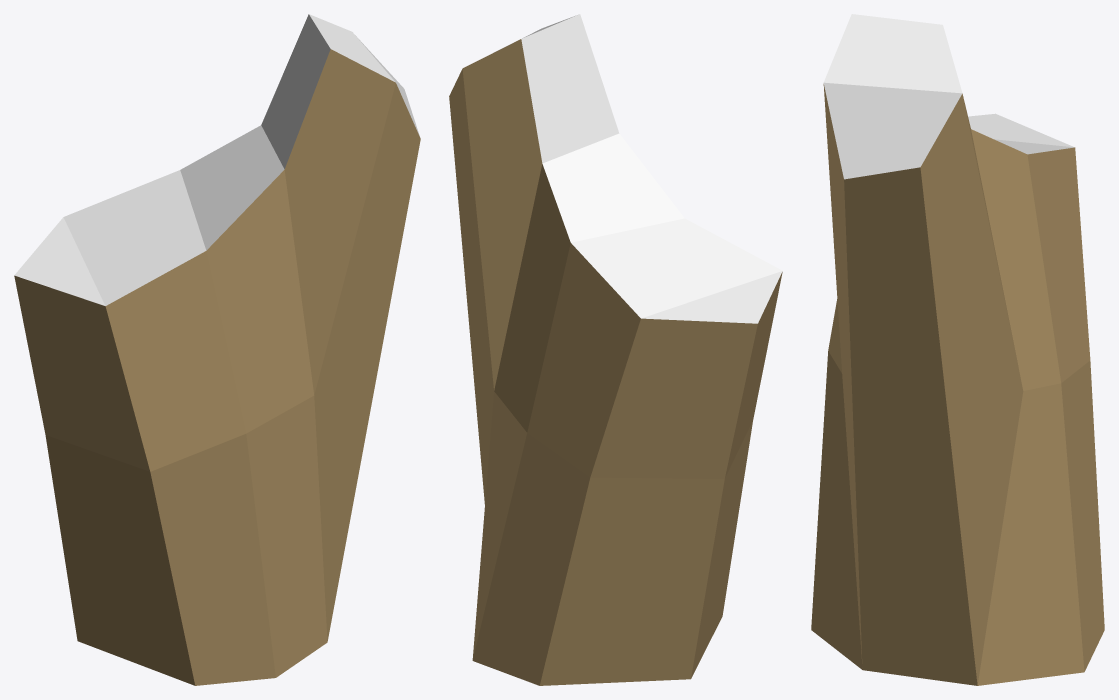
File: Acacia_Stump_Snow_02_LOD.fbx
3 renders of one model, left to right at view 1: azimuth 30°, elevation 25°; view 2: azimuth 150°, elevation 25°; view 3: azimuth 270°, elevation 25°, orthographic. The views are drawn at different scales.
Visible parts, largest first — view 1: Acacia_Stump_Snow_02_LOD0; view 2: Acacia_Stump_Snow_02_LOD0; view 3: Acacia_Stump_Snow_02_LOD0.
Boxes of the visible parts, x1,y1,x2,y2 form: Acacia_Stump_Snow_02_LOD0: (14, 14, 420, 685); Acacia_Stump_Snow_02_LOD0: (449, 14, 782, 685); Acacia_Stump_Snow_02_LOD0: (811, 14, 1104, 685).
Size of what is drawn, in the model's own units: 110 by 176 by 71.53.
